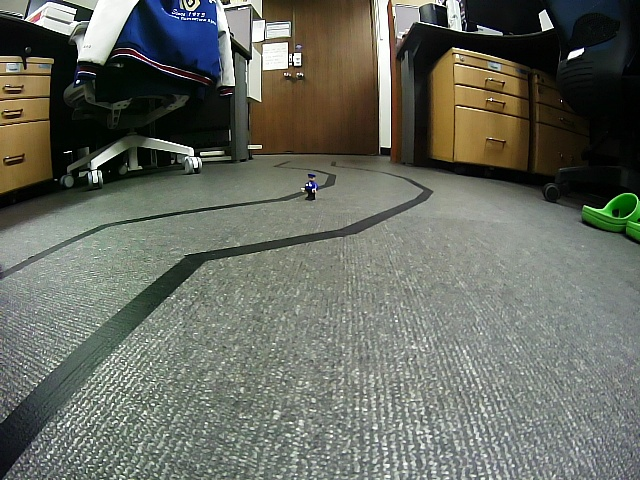person: (301, 173, 318, 201)
